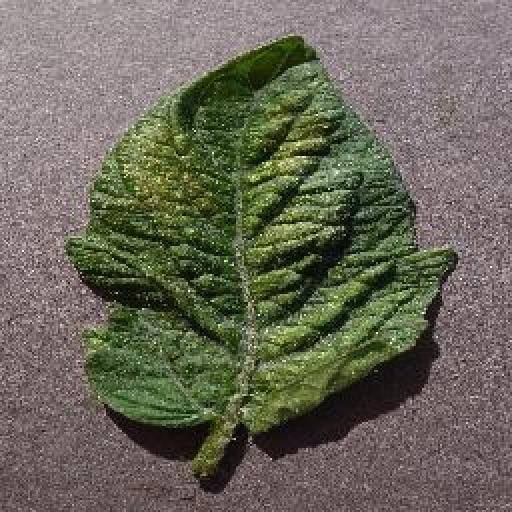disease_tomato: (67, 33, 459, 439)
